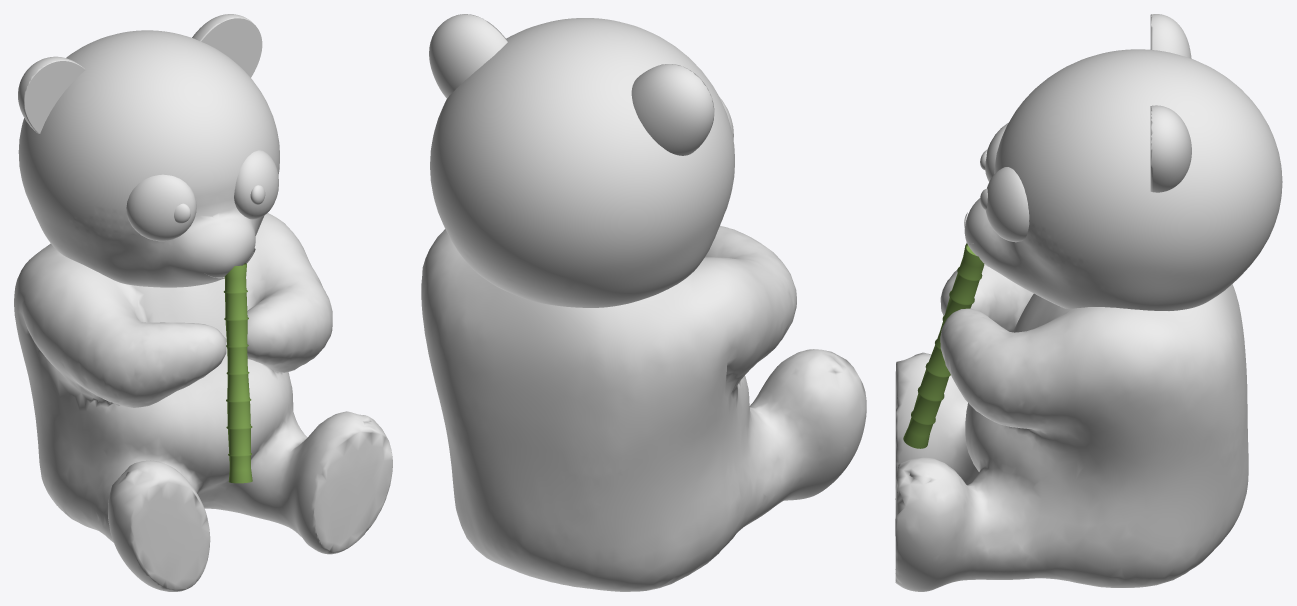
3 renders of one model, left to right at view 1: azimuth 30°, elevation 25°; view 2: azimuth 150°, elevation 25°; view 3: azimuth 270°, elevation 25°, orthographic. The views are drawn at different scales.
Parts seen in each view (by area): view 1: Body, Head, Eyes, Ears, Bamboo; view 2: Body, Head, Ears; view 3: Body, Head, Ears, Bamboo, Eyes.
Part boxes in pixels (box(x1,y1,x2,y2)): Body: box(14, 213, 392, 591); Head: box(18, 30, 279, 287); Eyes: box(126, 150, 278, 241); Ears: box(18, 14, 262, 133); Bamboo: box(223, 263, 252, 483); Body: box(421, 226, 866, 591); Head: box(430, 18, 734, 307); Ears: box(429, 14, 714, 155); Body: box(895, 264, 1248, 591); Head: box(964, 49, 1282, 310); Ears: box(1150, 14, 1191, 192); Bamboo: box(903, 243, 984, 448); Eyes: box(980, 123, 1029, 242).
Size of the model in its own units: 2.75 by 4.43 by 3.15.
